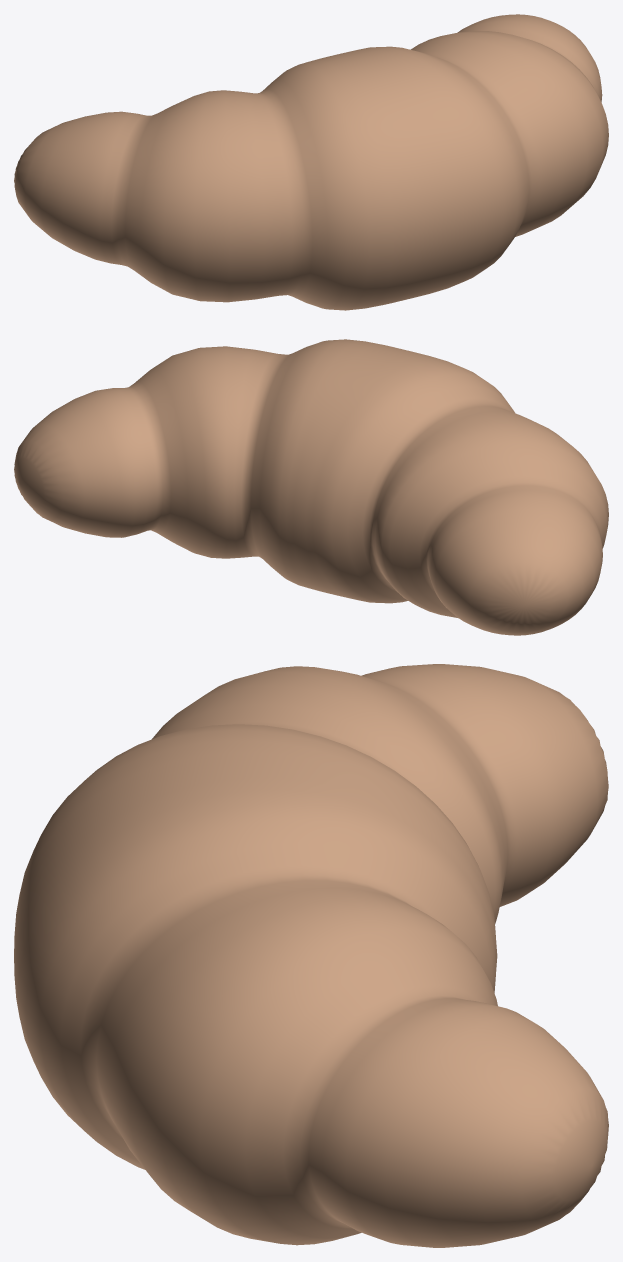
The model's file is croissant.FBX.
The picture shows the model from 3 angles, top to bottom: view 1: azimuth 30°, elevation 25°; view 2: azimuth 150°, elevation 25°; view 3: azimuth 270°, elevation 25°; orthographic projection. The views are drawn at different scales.
Parts seen in each view (by area): view 1: crossiant; view 2: crossiant; view 3: crossiant.
Boxes of the visible parts, x1=… form: crossiant: x1=14, y1=14, x2=608, y2=310; crossiant: x1=14, y1=339, x2=608, y2=635; crossiant: x1=14, y1=664, x2=608, y2=1247.
Bounding box in the file's own units: 199 × 76.21 × 108.
